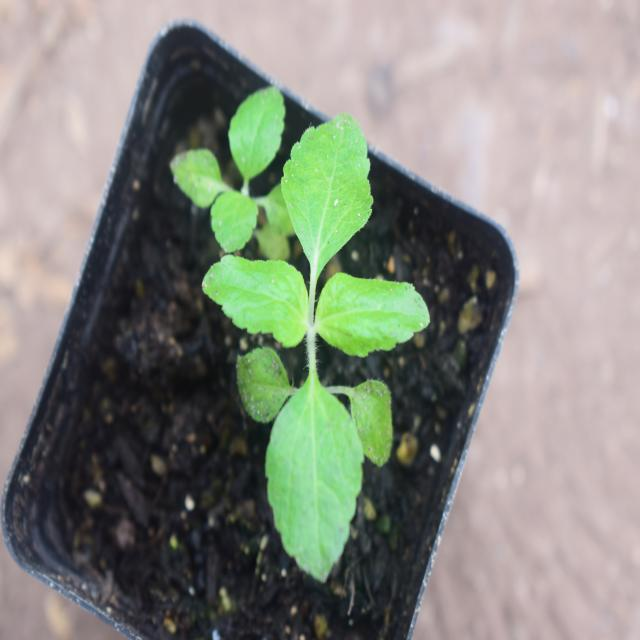billygoat_weed: (217, 108, 428, 582)
